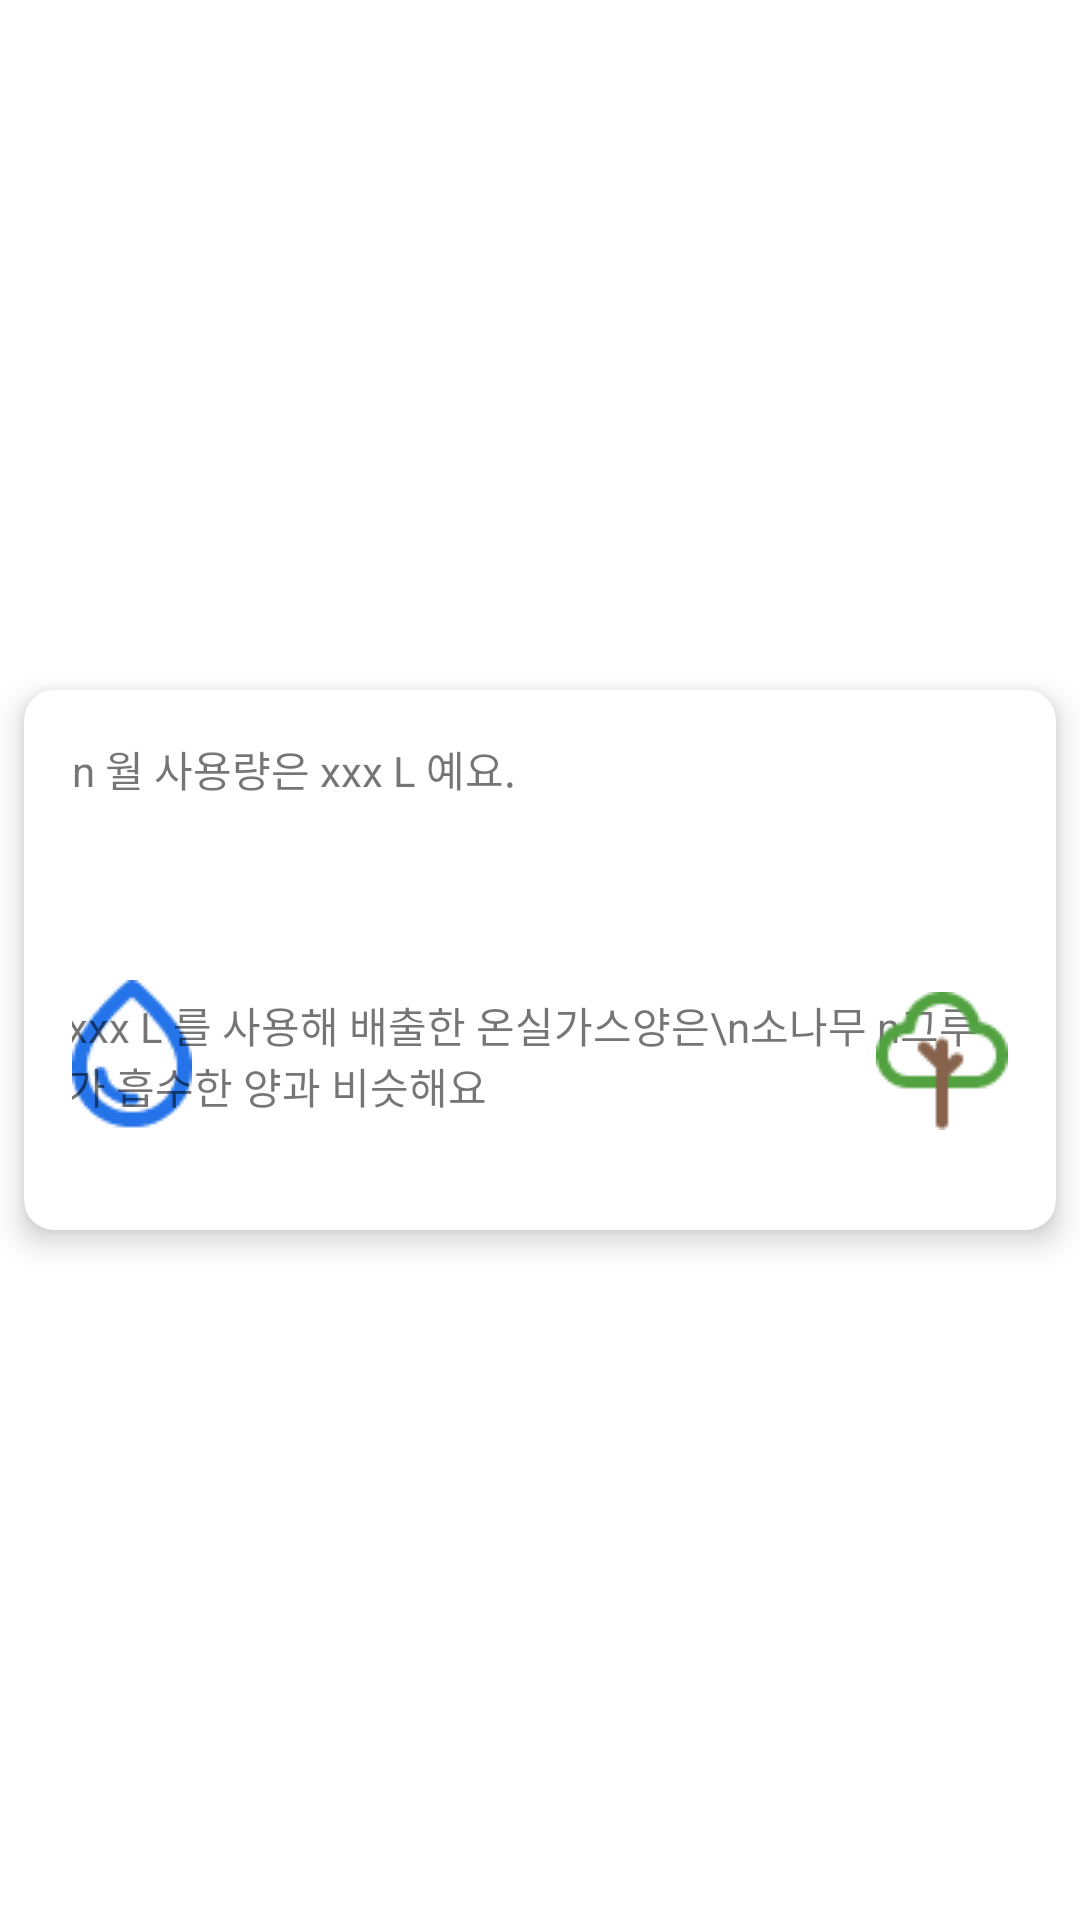

Locate icon controls on the screen. Image size 1080px x 1920px, boxes as (x1,y1,x2,y2).
water: (72,980,192,1128)
